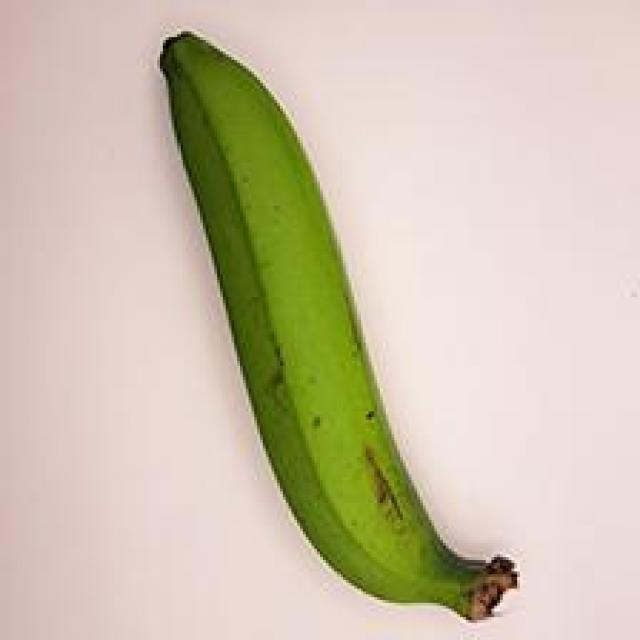Raw: (136, 13, 537, 640)
